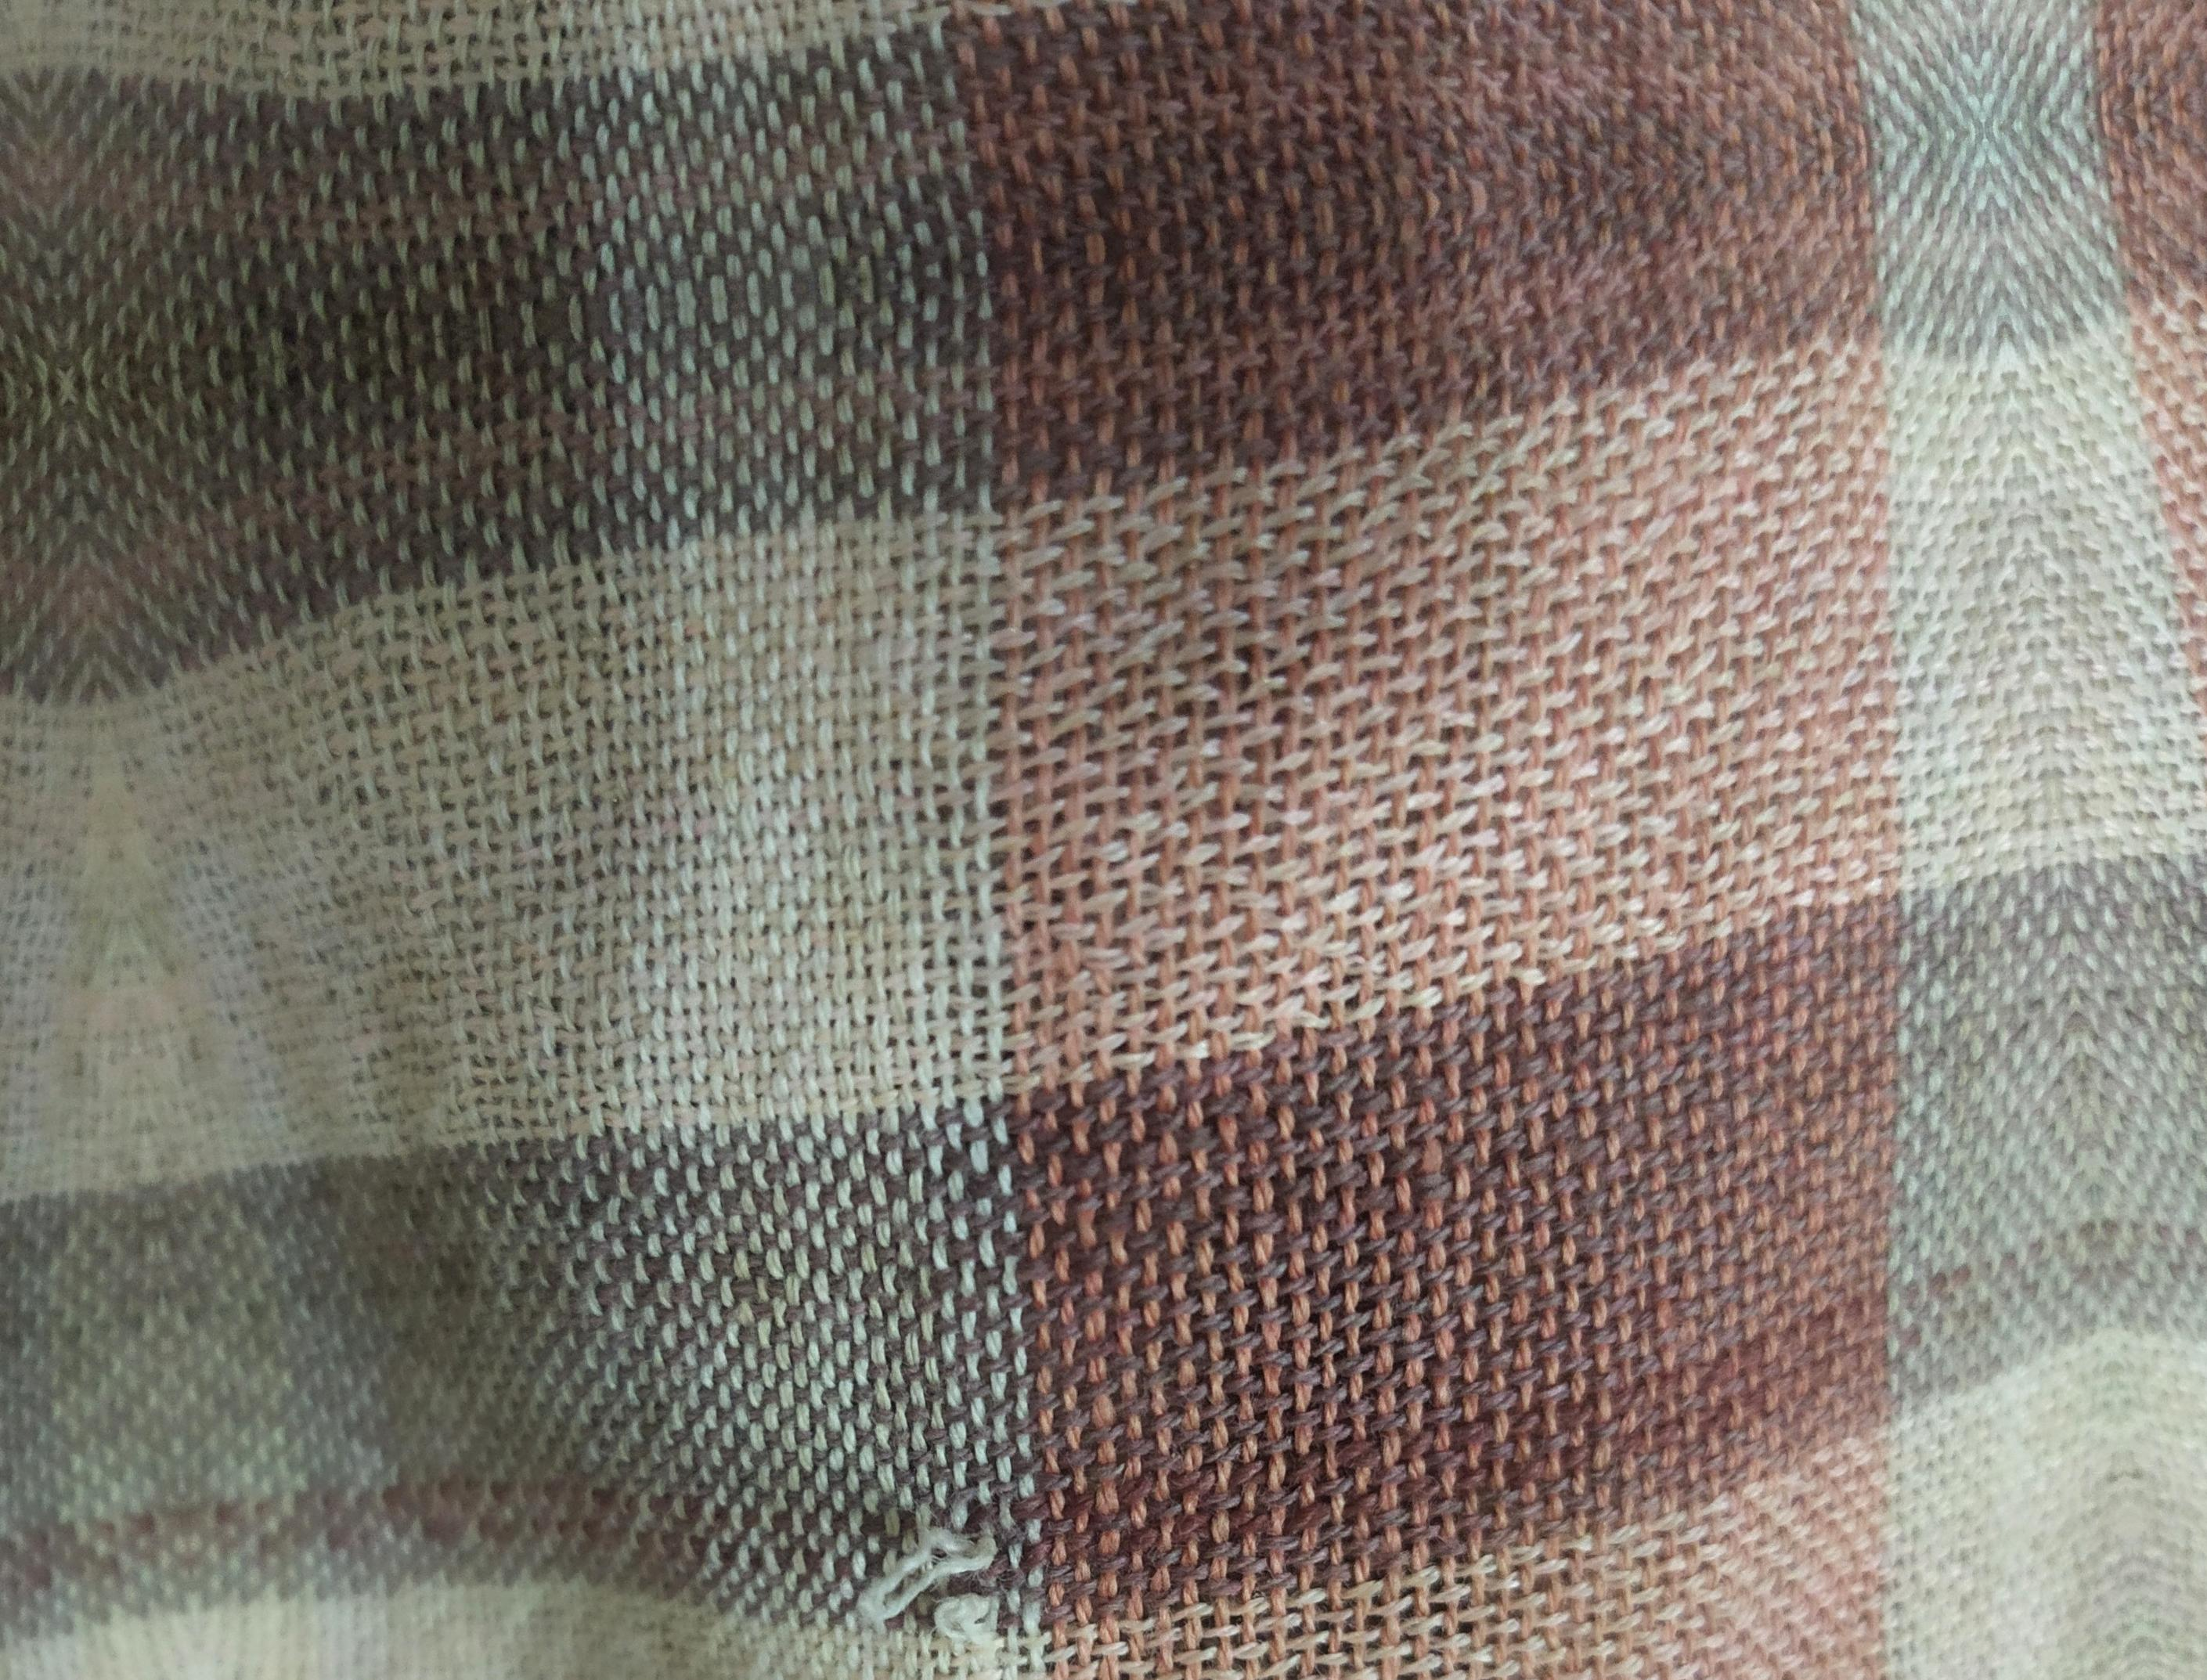snag: (824, 1502, 1051, 1655)
